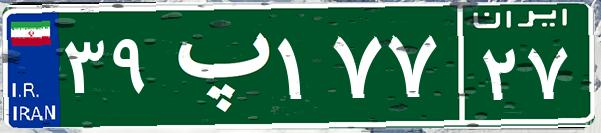1: (273, 28, 330, 110)
2: (475, 38, 525, 113)
3: (57, 26, 110, 107)
7: (385, 28, 445, 110), (330, 28, 385, 110), (525, 38, 570, 115)
9: (110, 28, 158, 105)
پ: (158, 15, 273, 115)
